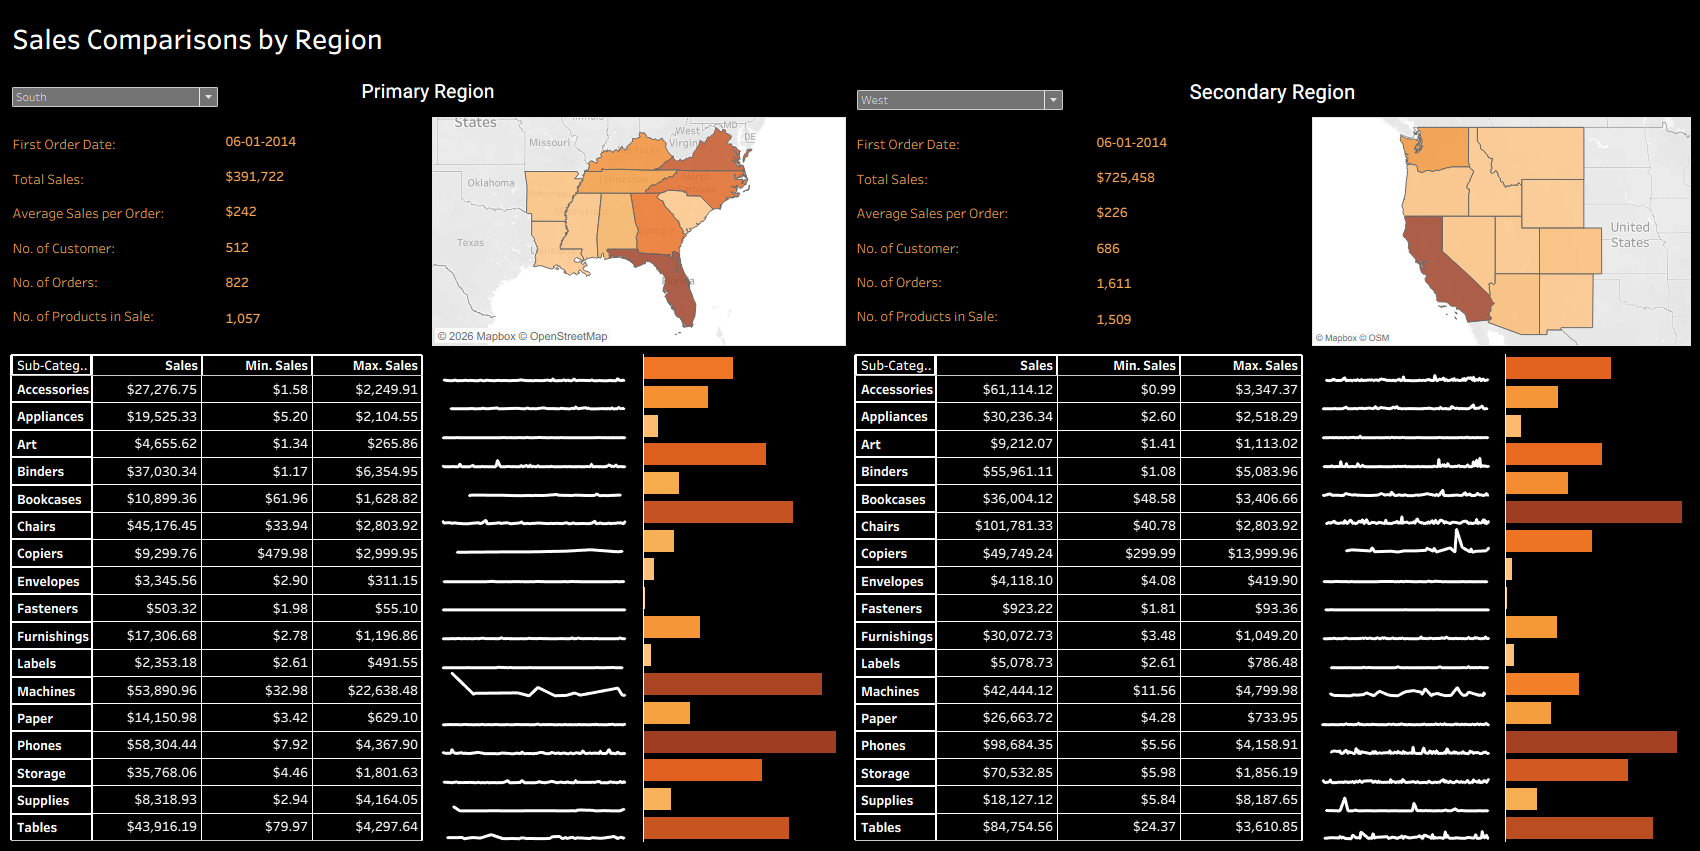

This screenshot's page, from the dashboard's own definition file:
{"tool":"tableau","page":{"name":"Dashboard","canvas":[1000,1000],"units":"permille","ordinal":0},"visuals":[{"type":"text","box":[4.7,9.3,990.6,74.8]},{"type":"text","box":[4.7,84.1,495.3,50.2]},{"type":"text","box":[500,84.1,495.3,50.2]},{"type":"filter","title":"Pr-Map","param":"[federated.1twyp2o1gfbzs41ac3lxf0hi6o0t].[none:Region:nk]","box":[6.4,101.6,124.6,28]},{"type":"filter","title":"SC-Map ","param":"[federated.1twyp2o1gfbzs41ac3lxf0hi6o0t].[none:Region:nk]","box":[502.1,104,124,30.4]},{"type":"text","box":[4.7,134.3,123.8,276.9]},{"type":"worksheet","title":"Pr-Measures","mark":"Automatic","box":[128.5,134.3,123.9,276.9]},{"type":"worksheet","title":"Pr-Map","mark":"Automatic","box":[252.3,134.3,247.7,276.9]},{"type":"text","box":[500,134.3,139.5,276.9]},{"type":"worksheet","title":"SC-Measures","mark":"Automatic","box":[639.4,134.3,129,276.9]},{"type":"worksheet","title":"SC-Map ","mark":"Automatic","box":[768.5,134.3,226.8,276.9]},{"type":"worksheet","title":"Pr-RegSales","mark":"Automatic","rows":["Sub-Category"],"box":[4.7,411.2,247.6,579.4]},{"type":"worksheet","title":"Pr-Sales Line","mark":"Automatic","rows":["Sub-Category","Sales"],"cols":["Order Date"],"box":[252.3,411.2,123.8,579.4]},{"type":"worksheet","title":"Pr-Sales Chart","mark":"Automatic","rows":["Sub-Category"],"cols":["Sales"],"box":[376.1,411.2,123.9,579.4]},{"type":"worksheet","title":"SC-RegSales ","mark":"Automatic","rows":["Sub-Category"],"box":[500,411.2,268.2,579.4]},{"type":"worksheet","title":"SC-Sales Line ","mark":"Automatic","rows":["Sub-Category","Sales"],"cols":["Order Date"],"box":[768.2,411.2,113.5,579.4]},{"type":"worksheet","title":"SC-Sales Chart ","mark":"Automatic","rows":["Sub-Category"],"cols":["Sales"],"box":[881.8,411.2,113.5,579.4]}]}

Visuals, with their boxes on the dashboard's canvas, which has no fixed pixel size, in thousandths of its width and height (x1, y1, x2, y2). These are canvas units, not pixel positions in the 1700x851 screenshot, which may show the page scaled, cropped or inside an application window:
text: [5, 9, 995, 84]
text: [5, 84, 500, 134]
text: [500, 84, 995, 134]
"Pr-Map" filter: [6, 102, 131, 130]
"SC-Map " filter: [502, 104, 626, 134]
text: [5, 134, 128, 411]
"Pr-Measures" worksheet: [128, 134, 252, 411]
"Pr-Map" worksheet: [252, 134, 500, 411]
text: [500, 134, 640, 411]
"SC-Measures" worksheet: [639, 134, 768, 411]
"SC-Map " worksheet: [768, 134, 995, 411]
"Pr-RegSales" worksheet: [5, 411, 252, 991]
"Pr-Sales Line" worksheet: [252, 411, 376, 991]
"Pr-Sales Chart" worksheet: [376, 411, 500, 991]
"SC-RegSales " worksheet: [500, 411, 768, 991]
"SC-Sales Line " worksheet: [768, 411, 882, 991]
"SC-Sales Chart " worksheet: [882, 411, 995, 991]
